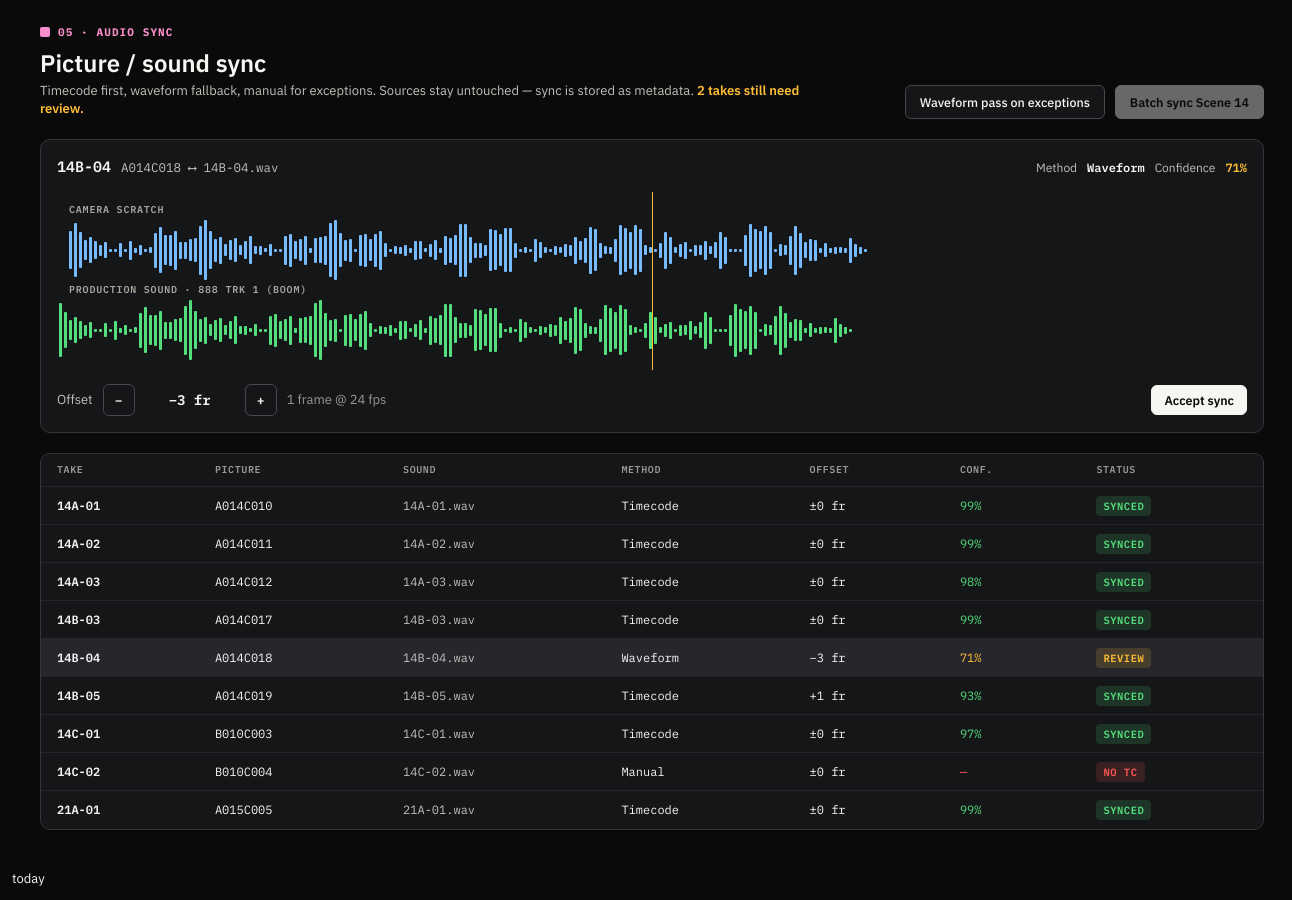
Test: Audio Sync › nudges the selected take and accepts it
Expected: the text "2 takes still need review." is shown, [40,82,799,117]
Expected: the text "−3 fr" is shown, [169,391,211,409]
Click the button named "Nudge sound one frame later".
click(261, 400)  # box [245,384,277,416]
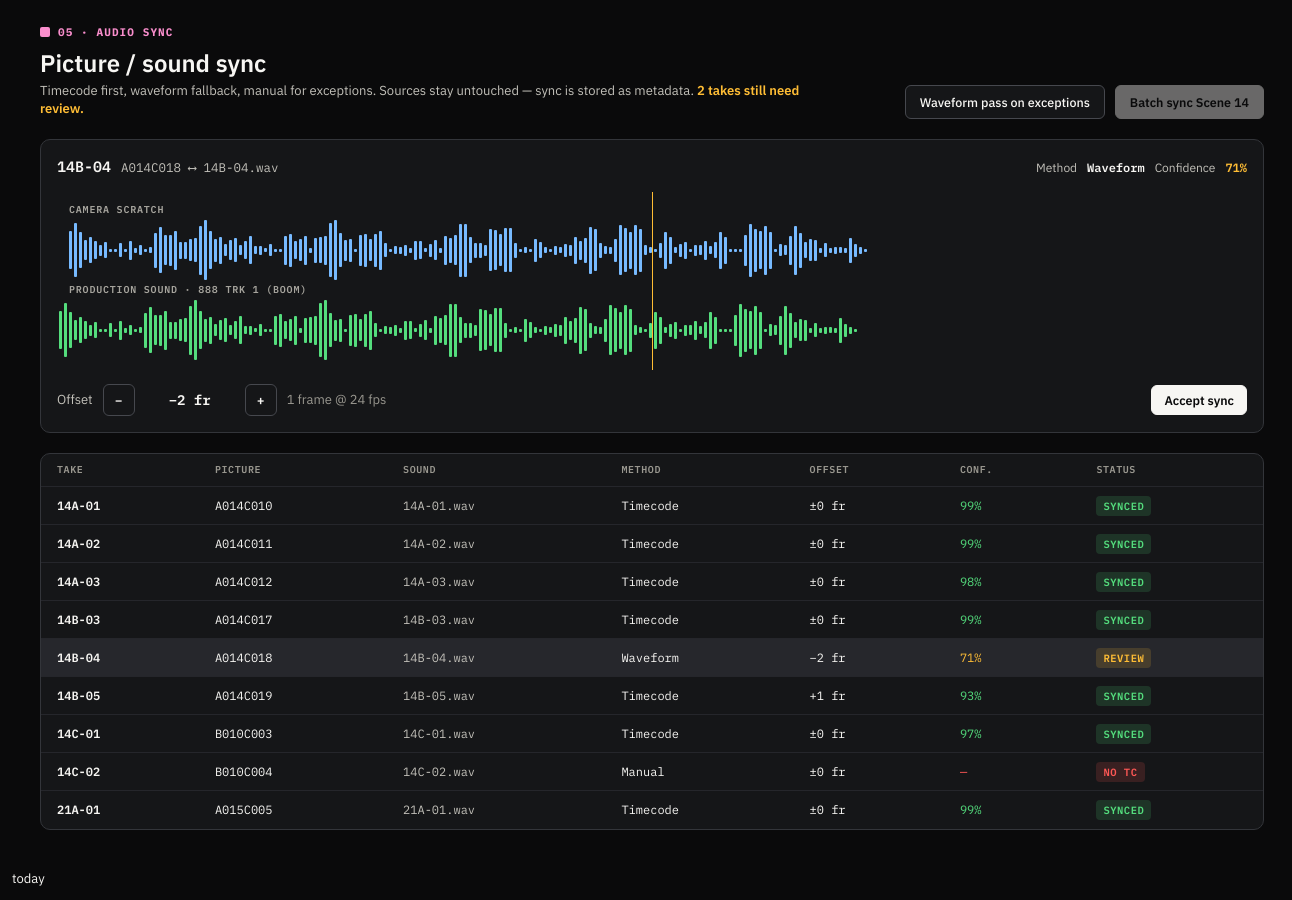
Result: the text "−2 fr" is shown at [169,391,211,409]
Click the button "Accept sync".
click(1199, 400)  # box [1152,385,1247,415]
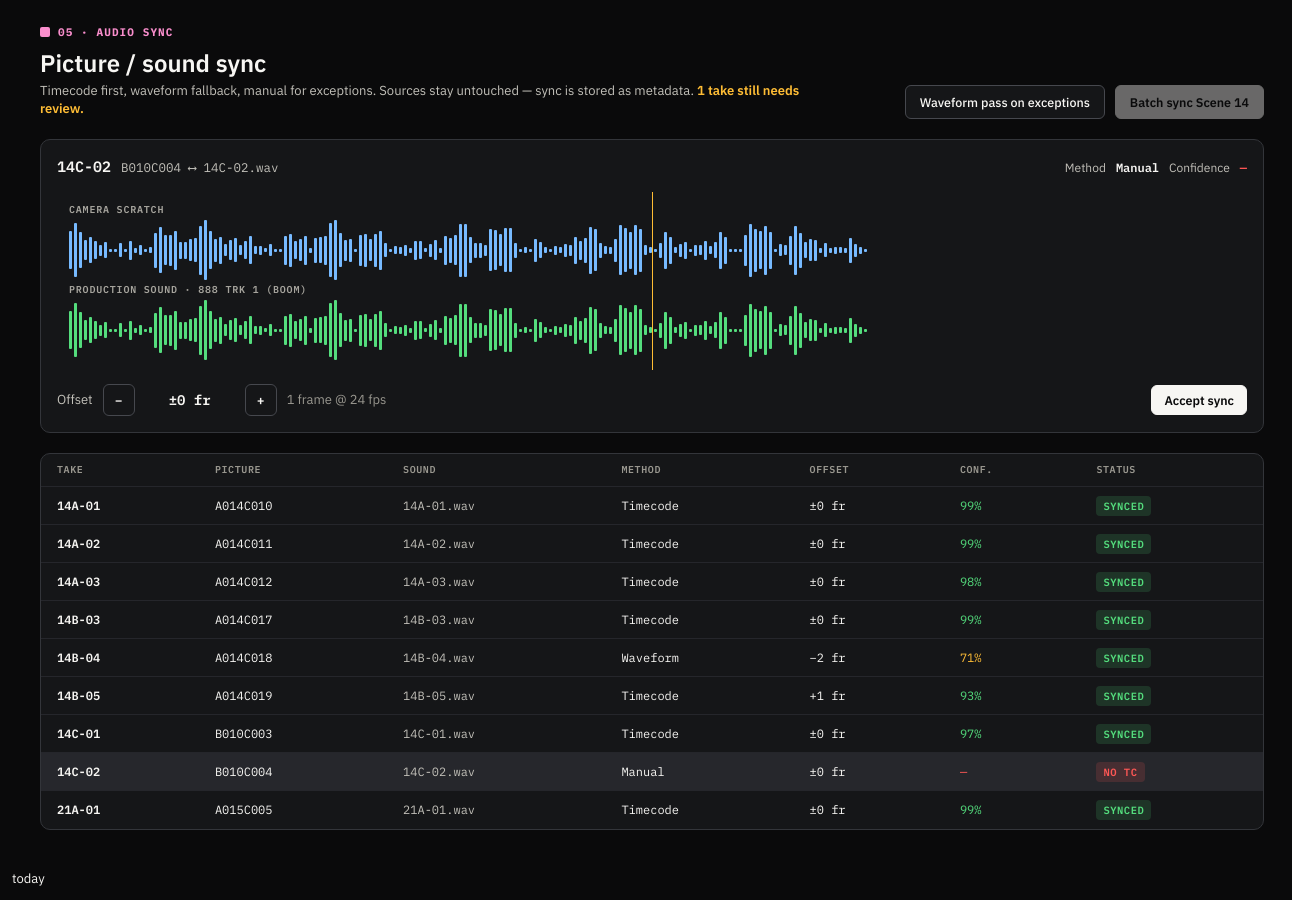
Result: the text "1 take still needs review." is shown at [40,82,799,117]
Result: the element named "Sync for 14C-02" is shown at [40,139,1264,433]
